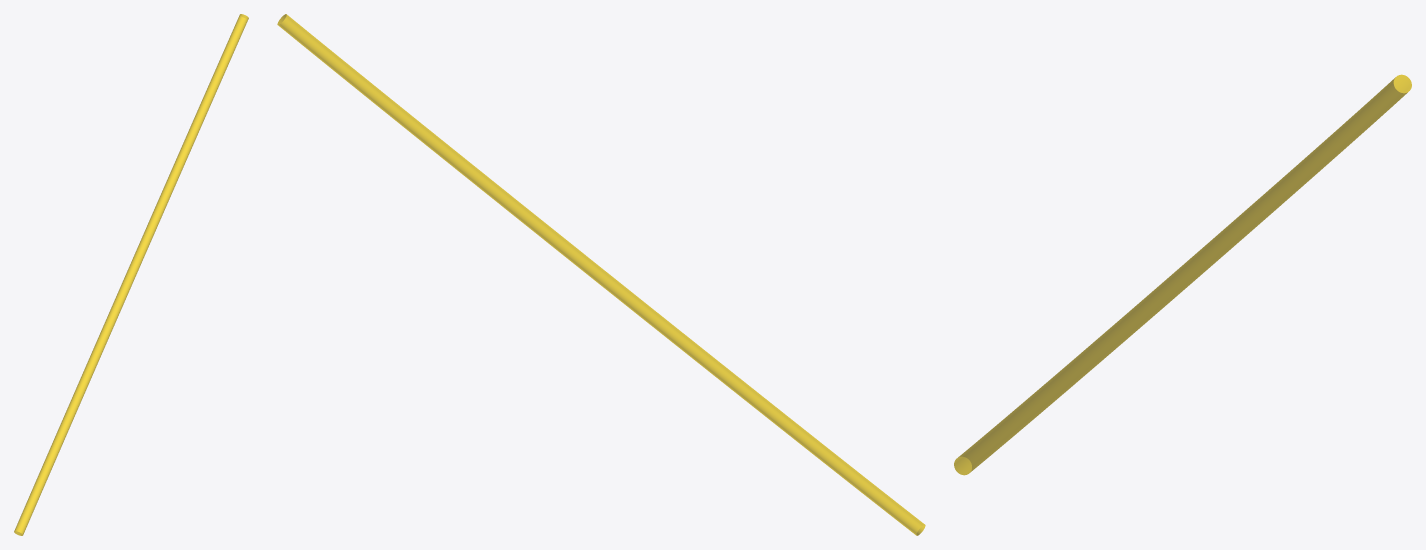
Rendered from Event_75125125_track_34.fbx.
The picture shows the model from 3 angles, left to right: view 1: azimuth 30°, elevation 25°; view 2: azimuth 150°, elevation 25°; view 3: azimuth 270°, elevation 25°; orthographic projection. The views are drawn at different scales.
Parts seen in each view (by area): view 1: Model; view 2: Model; view 3: Model.
Boxes of the visible parts, x1,y1,x2,y2 form: Model: (14,14,248,535); Model: (277,14,925,535); Model: (954,74,1411,475).
Size of the model in its own units: 1.61 by 1.62 by 0.9311.
